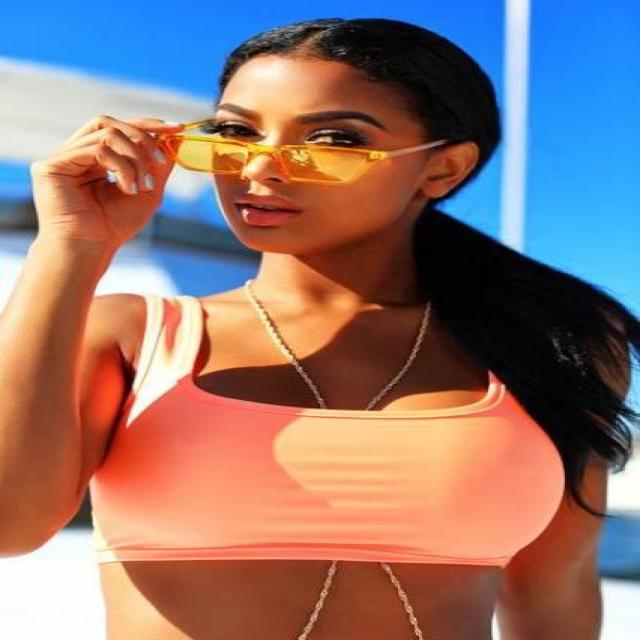glasses: (157, 118, 447, 184)
